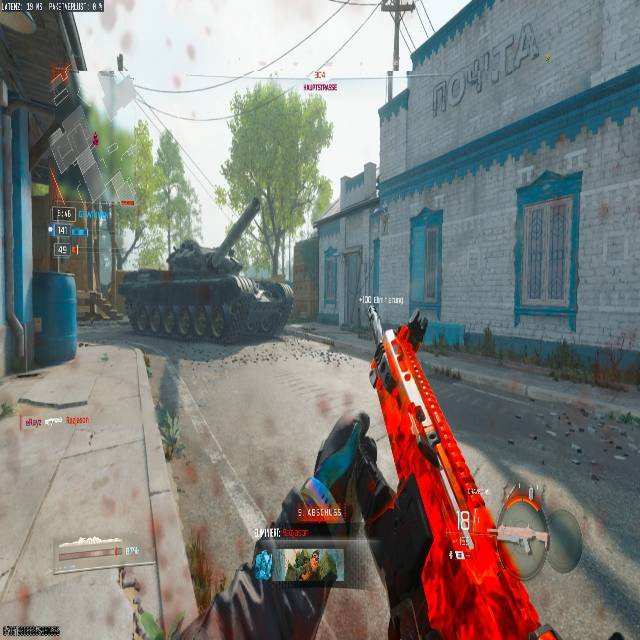player: (368, 307, 378, 331)
